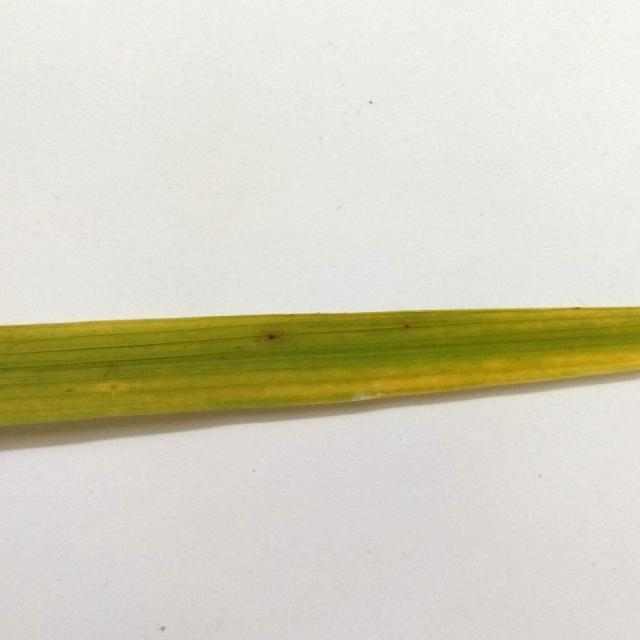Brown spot: (249, 326, 296, 352), (390, 314, 426, 336), (58, 378, 78, 402), (100, 372, 122, 393)
